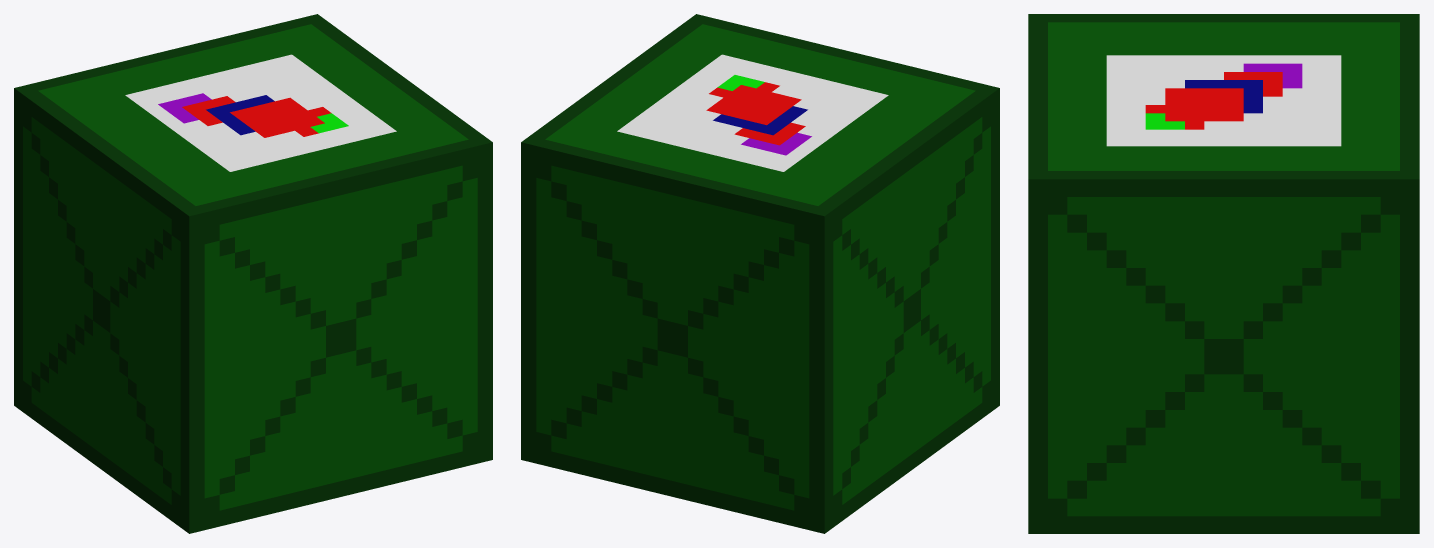
The model's file is SpeedShoot.obj.
3 views of the same model, side by side, from view 1: azimuth 30°, elevation 25°; view 2: azimuth 150°, elevation 25°; view 3: azimuth 270°, elevation 25° (orthographic). The views are drawn at different scales.
Parts seen in each view (by area): view 1: SpeedShoot; view 2: SpeedShoot; view 3: SpeedShoot.
Boxes of the visible parts, x1,y1,x2,y2 form: SpeedShoot: [14, 14, 492, 533]; SpeedShoot: [521, 14, 999, 533]; SpeedShoot: [1028, 14, 1419, 533].
Size of the model in its own units: 20 by 20 by 20.
1 material, 1 textured.
